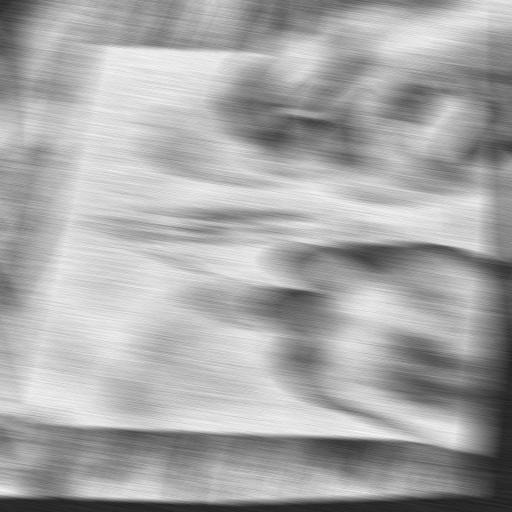boat: (29, 96, 499, 375)
top_right: (75, 37, 104, 50)
